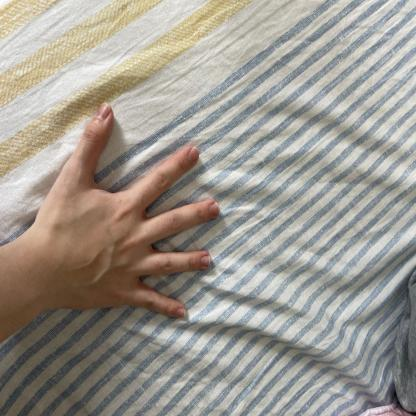bare_hand: (23, 91, 224, 338)
